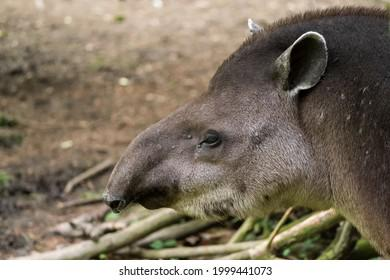Anta: (100, 5, 388, 251)
